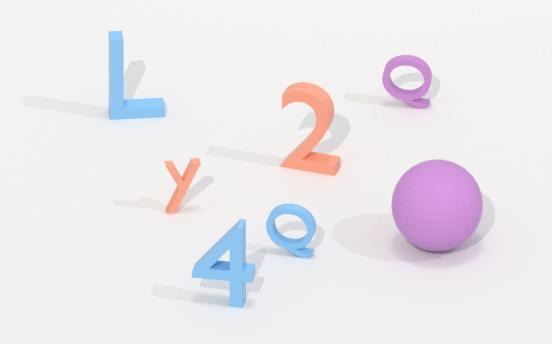chu_khoi: (108, 31, 165, 119), (266, 204, 316, 257), (382, 55, 431, 108), (164, 158, 200, 213)
hinh_cau: (392, 160, 482, 251)
so_khoi: (281, 82, 340, 174), (192, 219, 254, 306)
